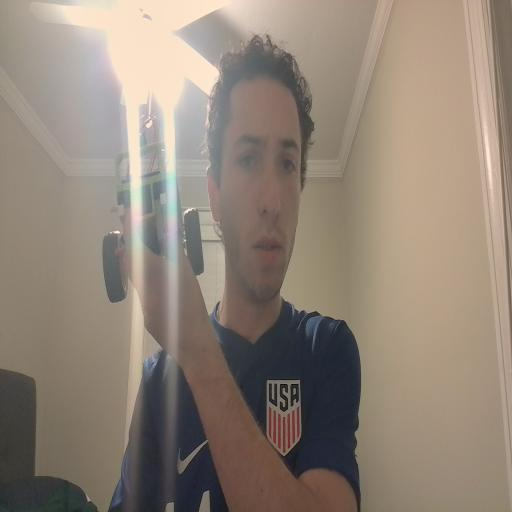green LEGO minifig: (137, 128, 148, 156)
